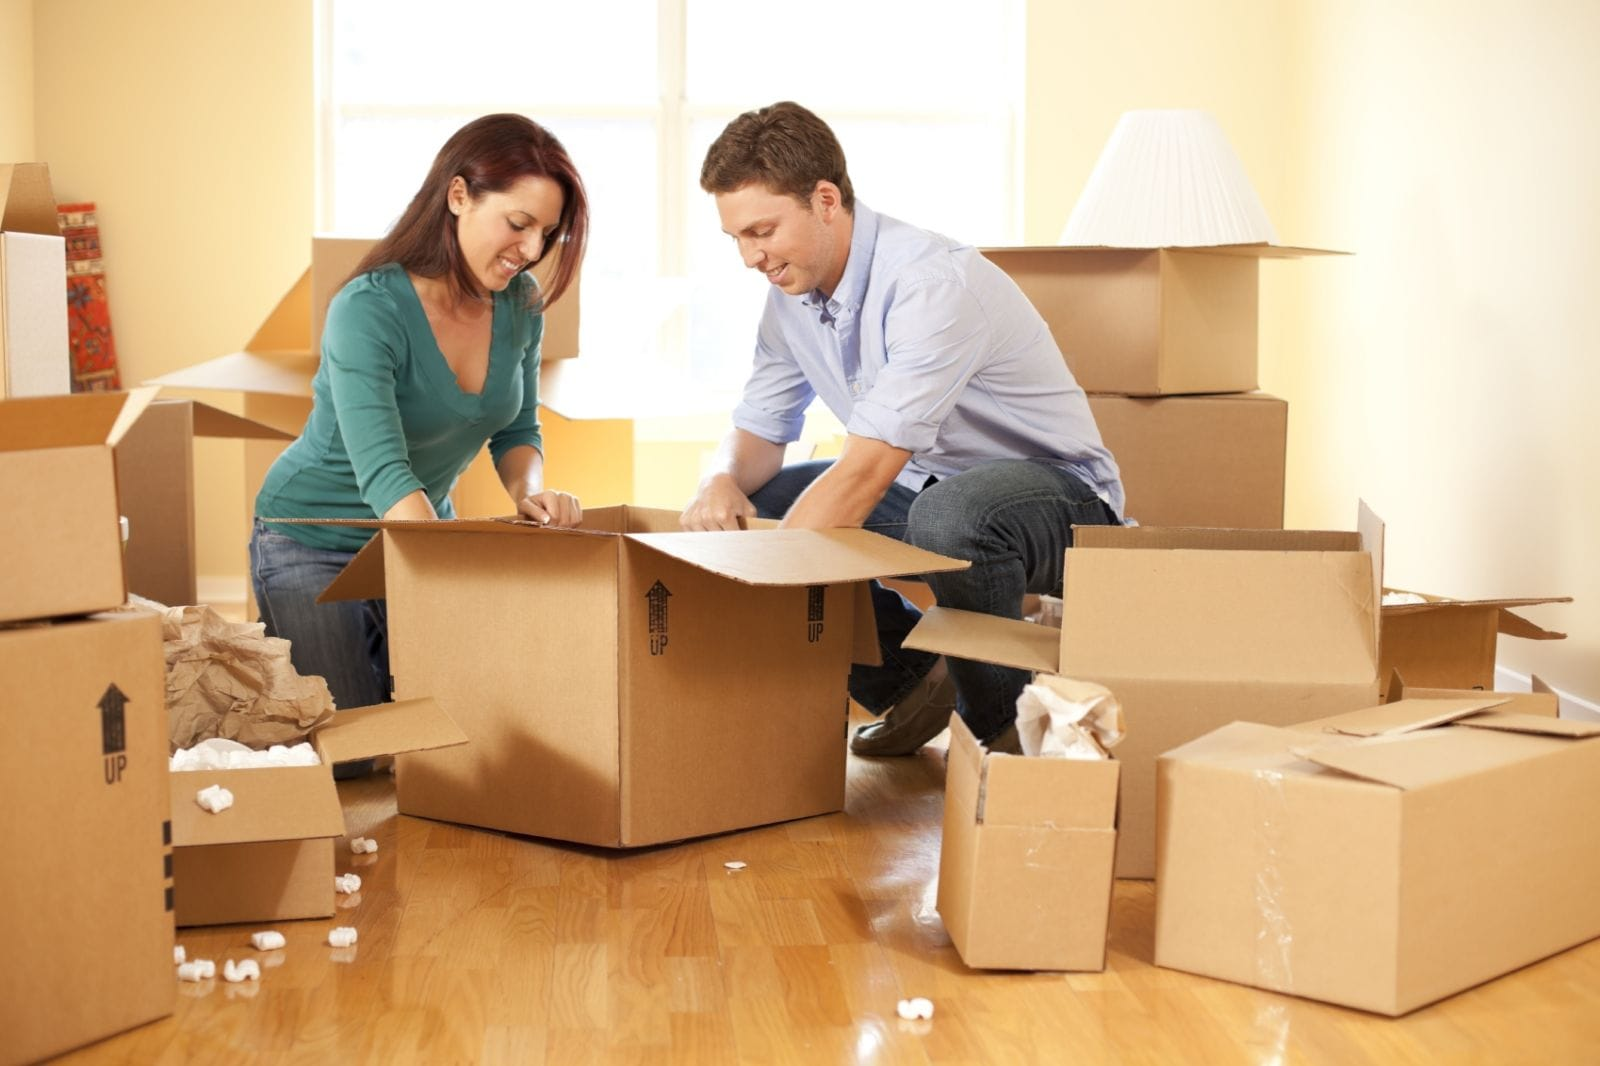Person: (690, 102, 1142, 721), (220, 113, 590, 715)
